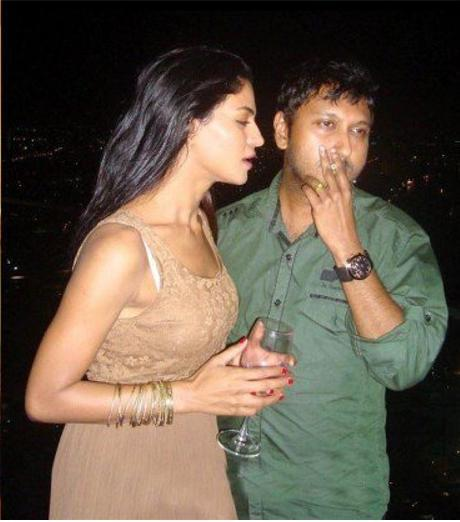Drunk: (285, 87, 372, 187), (208, 85, 264, 187)
